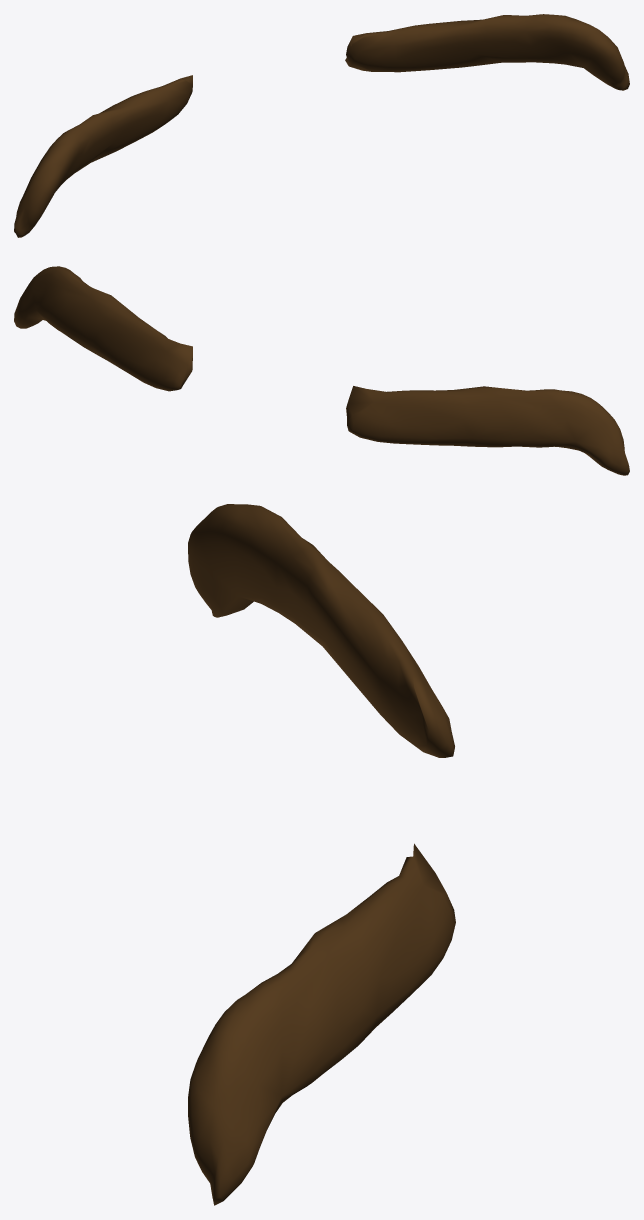
Rendered from Eyebrows.fbx.
3 views of the same model, one above another, from view 1: azimuth 30°, elevation 25°; view 2: azimuth 150°, elevation 25°; view 3: azimuth 270°, elevation 25° (orthographic). The views are drawn at different scales.
Visible parts, largest first — view 1: EYEBROWS_LOW; view 2: EYEBROWS_LOW; view 3: EYEBROWS_LOW.
Boxes of the visible parts, bbox=[...] form: EYEBROWS_LOW: bbox=[14, 14, 629, 237]; EYEBROWS_LOW: bbox=[14, 266, 629, 475]; EYEBROWS_LOW: bbox=[188, 504, 455, 1205].
Bounding box in the file's own units: 83.59 × 10.59 × 15.77.
